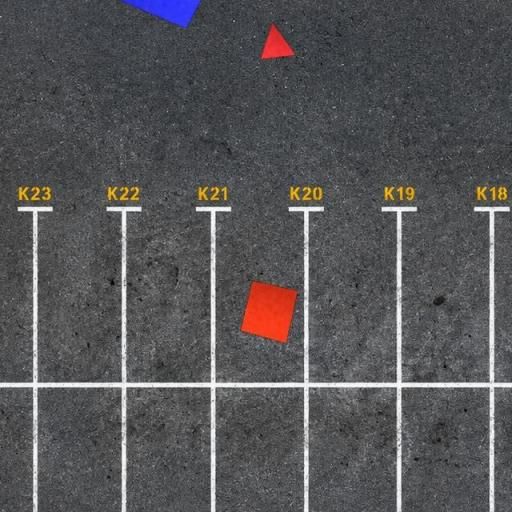RED_SQUARE: (240, 280, 298, 344)
